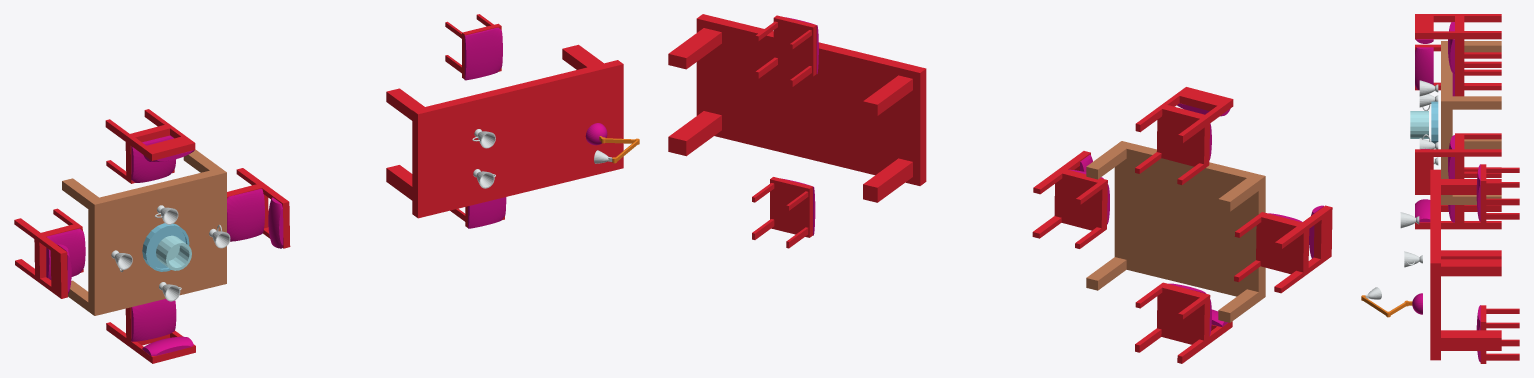
The model's file is tinker.obj.
3 views of the same model, side by side, from view 1: azimuth 30°, elevation 25°; view 2: azimuth 150°, elevation 25°; view 3: azimuth 270°, elevation 25° (orthographic). The views are drawn at different scales.
Parts seen in each view (by area): view 1: group_0_15277357, group_0_13205849, group_0_14093196, group_0_14541540, group_0_8768998, group_0_11593967; view 2: group_0_15277357, group_0_13205849, group_0_14093196; view 3: group_0_15277357, group_0_13205849, group_0_14093196, group_0_14541540, group_0_11593967, group_0_8768998, group_0_16089887.
Part boxes in pixels (left/top/right/bottom): group_0_15277357: left=14, top=14, right=623, bottom=363; group_0_13205849: left=62, top=149, right=226, bottom=315; group_0_14093196: left=46, top=27, right=607, bottom=356; group_0_14541540: left=111, top=129, right=612, bottom=301; group_0_8768998: left=142, top=223, right=189, bottom=271; group_0_11593967: left=156, top=235, right=191, bottom=270; group_0_15277357: left=668, top=14, right=1332, bottom=363; group_0_13205849: left=1086, top=141, right=1265, bottom=322; group_0_14093196: left=782, top=17, right=1323, bottom=335; group_0_15277357: left=1415, top=14, right=1519, bottom=363; group_0_13205849: left=1441, top=41, right=1501, bottom=204; group_0_14093196: left=1412, top=22, right=1480, bottom=362; group_0_14541540: left=1365, top=80, right=1438, bottom=299; group_0_11593967: left=1410, top=111, right=1428, bottom=138; group_0_8768998: left=1431, top=101, right=1438, bottom=143; group_0_16089887: left=1361, top=295, right=1412, bottom=317.
Size of the model in its own units: 172 by 63 by 44.24.
